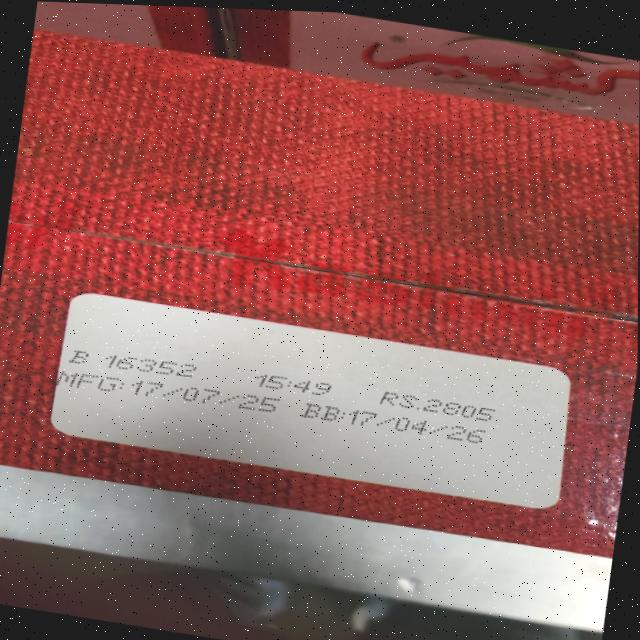BB: (301, 400, 491, 447)
Batch: (66, 346, 201, 383)
MFG: (57, 364, 278, 420)
RS: (377, 389, 500, 424)
TimeStamp: (254, 372, 338, 399)
